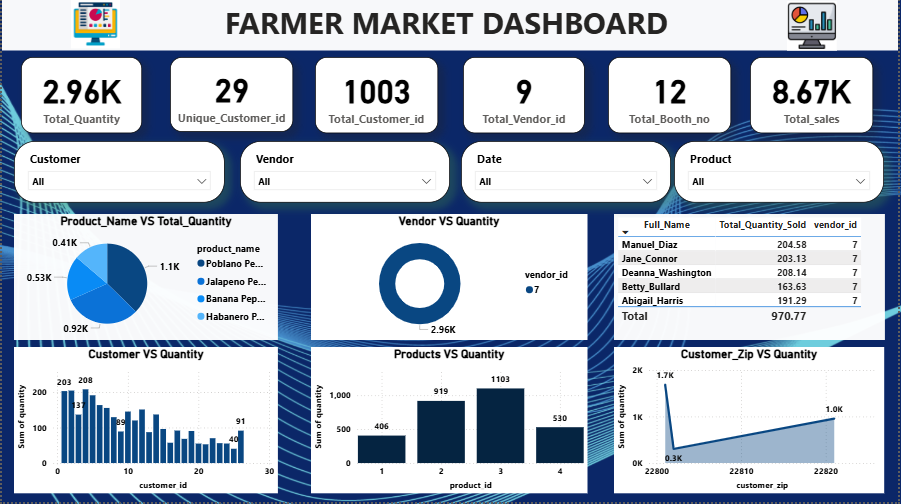

The page's visual inventory and layout, read from the dashboard file:
{"tool":"powerbi","page":{"name":"Quantity Wise Analyst","canvas":[1280,720],"ordinal":0},"visuals":[{"type":"columnChart","title":"Customer VS Quantity","fields":{"Y":["Sum(customer_purchases.quantity)"],"Category":["customer.customer_id"]},"box":[17.3,498.2,377.3,208.8],"z":0},{"type":"clusteredColumnChart","title":"Products VS Quantity","fields":{"Category":["product.product_id"],"Y":["Sum(customer_purchases.quantity)"]},"box":[442.1,498.2,394.6,208.8],"z":1000},{"type":"pieChart","title":"Product_Name VS Total_Quantity","fields":{"Category":["product.product_name"],"Y":["Sum(customer_purchases.quantity)"]},"box":[17.3,308.2,377.3,180],"z":2000},{"type":"donutChart","title":"Vendor VS Quantity","fields":{"Category":["customer_purchases.vendor_id"],"Y":["Sum(customer_purchases.quantity)"]},"box":[442.1,308.2,394.6,180],"z":3000},{"type":"textbox","box":[0,0,1279.8,74.9],"z":4000},{"type":"card","fields":{"Values":["Sum(customer_purchases.quantity)"]},"box":[26.4,83.8,173.4,108.7],"z":5000},{"type":"card","fields":{"Values":["Count(customer_purchases.customer_id)"]},"box":[239.5,83.8,176.3,107.3],"z":6000},{"type":"card","fields":{"Values":["CountNonNull(customer_purchases.customer_id)"]},"box":[447.1,84.3,175.7,108.6],"z":7000},{"type":"card","fields":{"Values":["Count(vendor.vendor_id)"]},"box":[658.6,84.3,174.3,108.6],"z":8000},{"type":"card","fields":{"Values":["Count(booth.booth_number)"]},"box":[865.7,84.3,175.7,108.6],"z":9000},{"type":"card","fields":{"Values":["customer_purchases.Total_sales"]},"box":[1068.6,84.3,175.7,108.6],"z":10000},{"type":"image","box":[98.6,0,70,74.3],"z":11000},{"type":"image","box":[1121.4,4.3,71.4,71.4],"z":12000},{"type":"tableEx","fields":{"Values":["customer.Full_Name","Sum(customer_purchases.quantity)","customer_purchases.vendor_id"]},"box":[874.1,308.2,387.4,180],"z":13000},{"type":"areaChart","title":"Customer_Zip VS Quantity","fields":{"Category":["customer.customer_zip"],"Y":["Sum(customer_purchases.quantity)"]},"box":[874.1,498.2,385.9,208.8],"z":14000},{"type":"slicer","fields":{"Values":["customer_purchases.customer_id"]},"box":[17.3,204.5,301,87.8],"z":15000},{"type":"slicer","fields":{"Values":["customer_purchases.vendor_id"]},"box":[339.8,204.5,299.5,87.8],"z":16000},{"type":"slicer","fields":{"Values":["customer_purchases.market_date"]},"box":[655.2,204.5,299.5,87.8],"z":17000},{"type":"slicer","fields":{"Values":["customer_purchases.product_id"]},"box":[960.5,204.5,299.5,87.8],"z":18000}]}

Visuals, with their boxes in screenshot pixels (x1, y1, x2, y2), scaled from the page's 1280x720 canvas onto the 901x504 screenshot:
"Customer VS Quantity" columnChart: bbox(12, 349, 278, 495)
"Products VS Quantity" clusteredColumnChart: bbox(311, 349, 589, 495)
"Product_Name VS Total_Quantity" pieChart: bbox(12, 216, 278, 342)
"Vendor VS Quantity" donutChart: bbox(311, 216, 589, 342)
textbox: bbox(0, 0, 900, 52)
card - Sum(customer_purchases.quantity): bbox(19, 59, 141, 135)
card - Count(customer_purchases.customer_id): bbox(169, 59, 293, 134)
card - CountNonNull(customer_purchases.customer_id): bbox(315, 59, 438, 135)
card - Count(vendor.vendor_id): bbox(464, 59, 586, 135)
card - Count(booth.booth_number): bbox(609, 59, 733, 135)
card - customer_purchases.Total_sales: bbox(752, 59, 876, 135)
image: bbox(69, 0, 119, 52)
image: bbox(789, 3, 840, 53)
tableEx - customer.Full_Name x Sum(customer_purchases.quantity): bbox(615, 216, 888, 342)
"Customer_Zip VS Quantity" areaChart: bbox(615, 349, 887, 495)
slicer - customer_purchases.customer_id: bbox(12, 143, 224, 205)
slicer - customer_purchases.vendor_id: bbox(239, 143, 450, 205)
slicer - customer_purchases.market_date: bbox(461, 143, 672, 205)
slicer - customer_purchases.product_id: bbox(676, 143, 887, 205)
